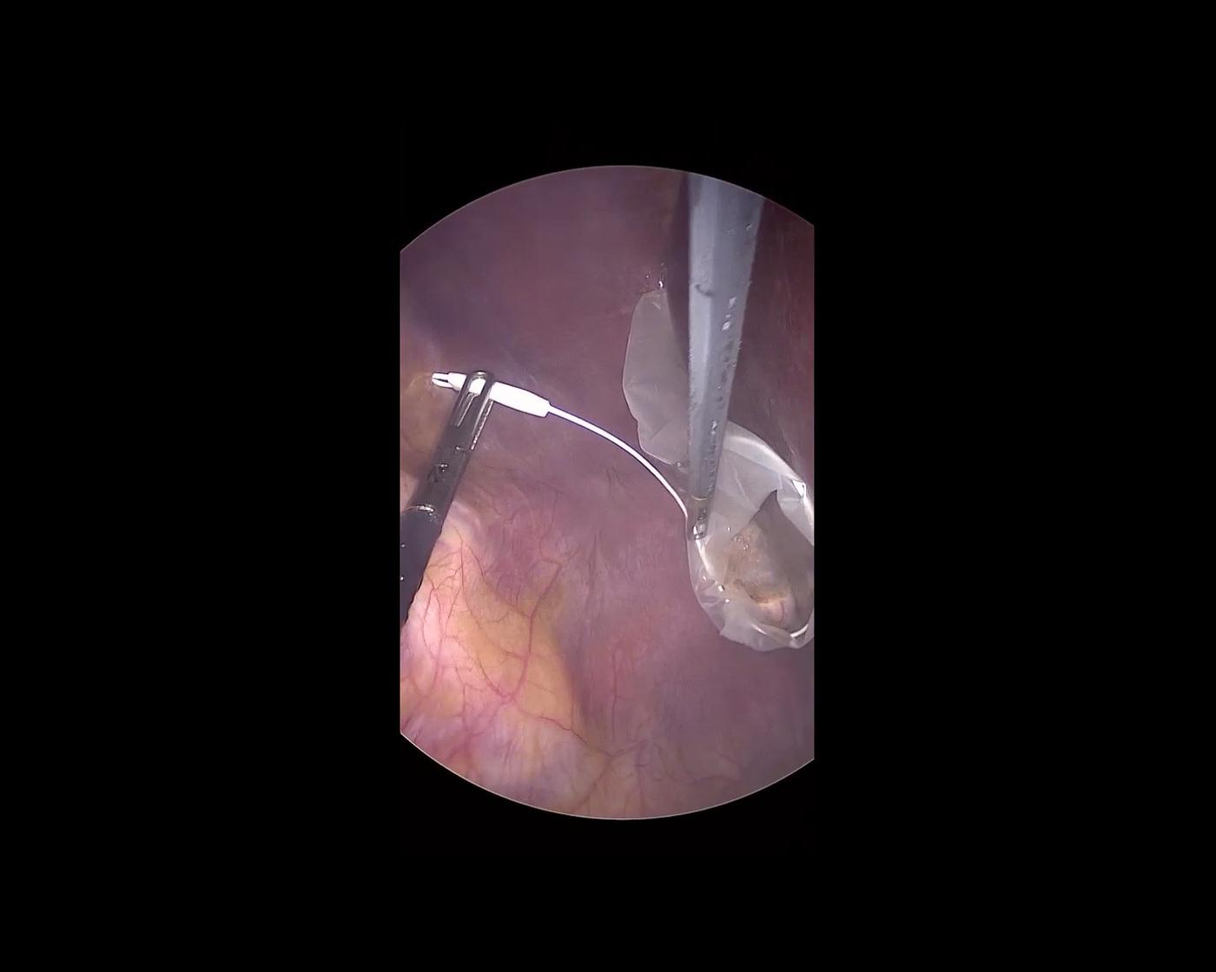Bag: (427, 224, 902, 720)
Forceps: (362, 361, 506, 622), (684, 171, 764, 539)
Gallbladder: (712, 518, 807, 645)
Liver: (666, 171, 814, 489)
